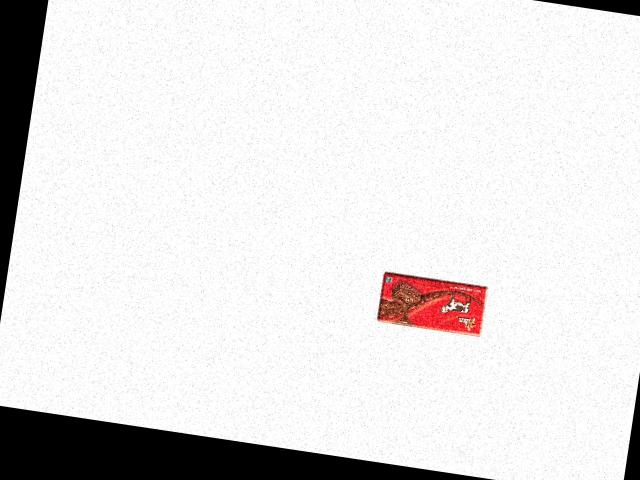chocolate: (371, 279, 477, 346)
